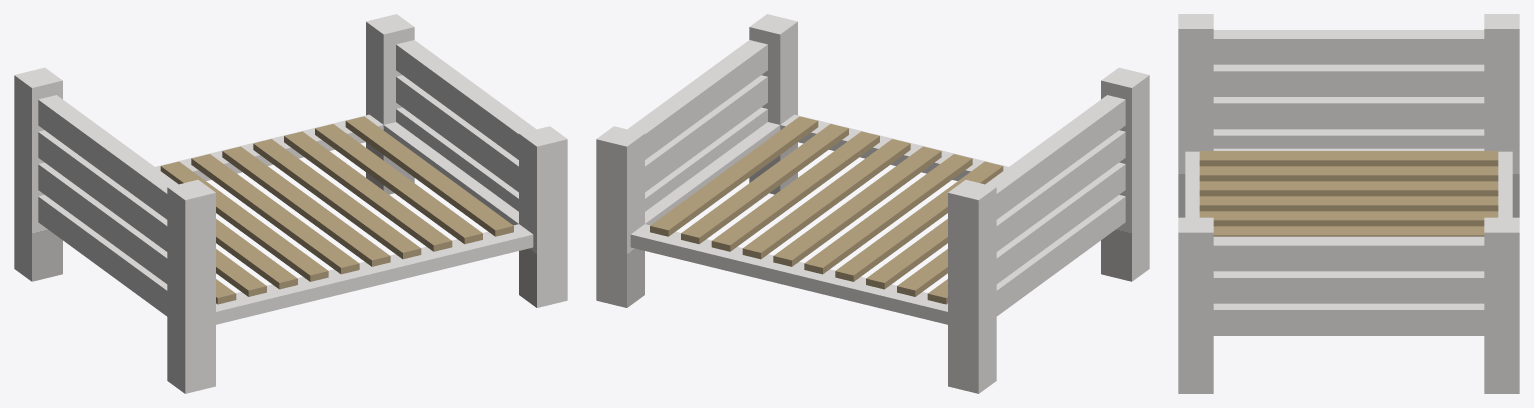
The model's file is platform_bed_frame.glb.
3 views of the same model, side by side, from view 1: azimuth 30°, elevation 25°; view 2: azimuth 150°, elevation 25°; view 3: azimuth 270°, elevation 25° (orthographic).
Parts seen in each view (by area): view 1: cuboid_5, cuboid_7, cuboid_14, cuboid_1, cuboid_46, cuboid_52, cuboid_40, cuboid_44, cuboid_42, cuboid_3, cuboid_48, cuboid_31 (+11 smaller); view 2: cuboid_1, cuboid_3, cuboid_12, cuboid_5, cuboid_46, cuboid_52, cuboid_40, cuboid_44, cuboid_42, cuboid_7, cuboid_48, cuboid_31 (+11 smaller); view 3: cuboid_52, cuboid_46, cuboid_50, cuboid_48, cuboid_42, cuboid_44, cuboid_3, cuboid_7, cuboid_1, cuboid_5, cuboid_40, cuboid_19 (+8 smaller).
Part boxes in pixels (left/top/right/bottom): cuboid_5: left=167, top=180, right=215, bottom=393; cuboid_7: left=519, top=126, right=567, bottom=307; cuboid_14: left=216, top=224, right=533, bottom=324; cuboid_1: left=14, top=67, right=62, bottom=281; cuboid_46: left=38, top=95, right=178, bottom=219; cuboid_52: left=396, top=40, right=536, bottom=159; cuboid_40: left=38, top=195, right=167, bottom=316; cuboid_44: left=38, top=130, right=167, bottom=251; cuboid_42: left=38, top=162, right=167, bottom=283; cuboid_3: left=366, top=14, right=414, bottom=194; cuboid_48: left=396, top=75, right=518, bottom=192; cuboid_31: left=191, top=154, right=359, bottom=274; cuboid_1: left=948, top=180, right=996, bottom=393; cuboid_3: left=596, top=126, right=644, bottom=307; cuboid_12: left=630, top=224, right=947, bottom=324; cuboid_5: left=1101, top=67, right=1149, bottom=281; cuboid_46: left=985, top=95, right=1125, bottom=219; cuboid_52: left=627, top=40, right=767, bottom=159; cuboid_40: left=996, top=195, right=1125, bottom=316; cuboid_44: left=996, top=130, right=1125, bottom=251; cuboid_42: left=996, top=162, right=1125, bottom=283; cuboid_7: left=749, top=14, right=797, bottom=194; cuboid_48: left=645, top=75, right=767, bottom=192; cuboid_31: left=804, top=154, right=972, bottom=274; cuboid_52: left=1206, top=236, right=1491, bottom=271; cuboid_46: left=1213, top=30, right=1484, bottom=64; cuboid_50: left=1206, top=303, right=1491, bottom=335; cuboid_48: left=1207, top=271, right=1490, bottom=303; cuboid_42: left=1213, top=97, right=1484, bottom=129; cuboid_44: left=1213, top=64, right=1484, bottom=96; cuboid_3: left=1484, top=217, right=1519, bottom=393; cuboid_7: left=1178, top=217, right=1213, bottom=393; cuboid_1: left=1484, top=14, right=1519, bottom=217; cuboid_5: left=1178, top=14, right=1213, bottom=217; cuboid_40: left=1213, top=129, right=1484, bottom=148; cuboid_19: left=1199, top=151, right=1498, bottom=166.
Size of the model in its own units: 0.9688 by 0.4688 by 0.75.
1 material, 1 textured.
